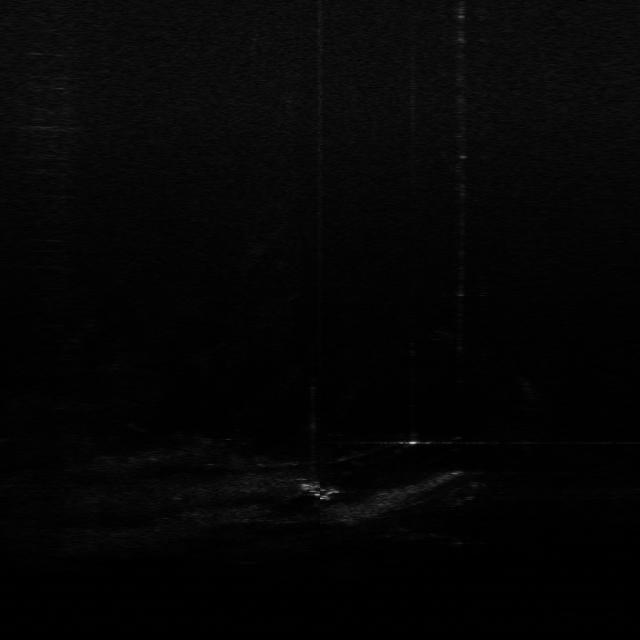rov: (296, 476, 340, 501)
